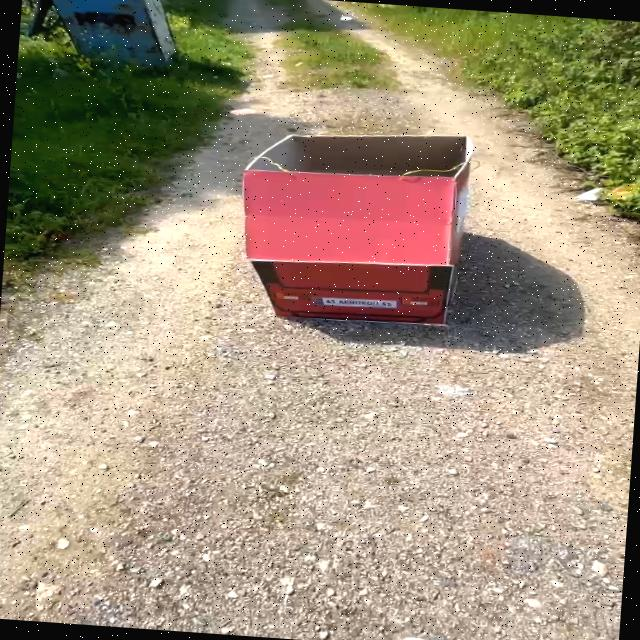red_car: (211, 110, 513, 347)
